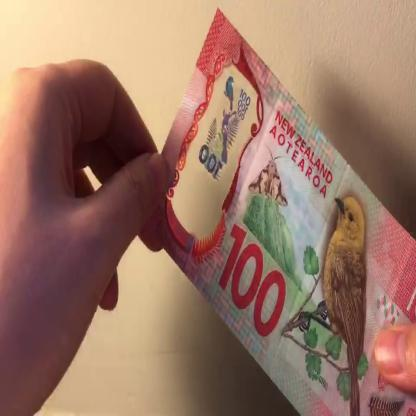100B: (196, 70, 253, 191)
